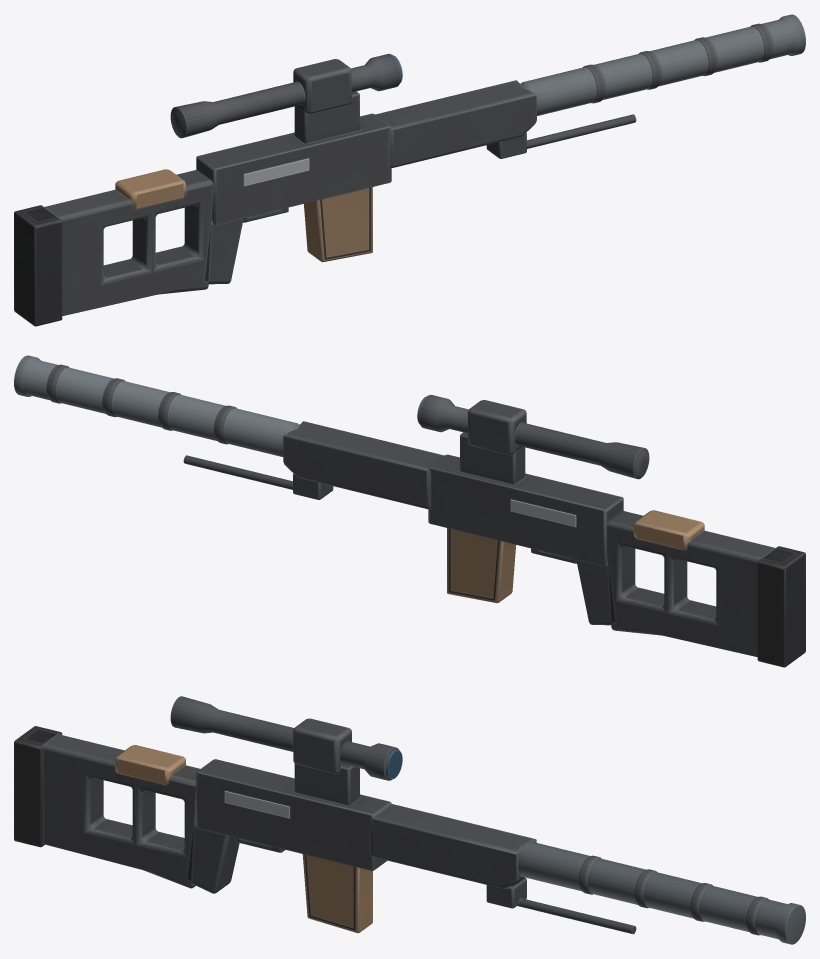
File: AT_PSR.fbx
The picture shows the model from 3 angles, top to bottom: view 1: azimuth 30°, elevation 25°; view 2: azimuth 150°, elevation 25°; view 3: azimuth 330°, elevation 25°; orthographic projection.
Visible parts, largest first — view 1: AT_PSR; view 2: AT_PSR; view 3: AT_PSR.
Part boxes in pixels (x1,y1,x2,y2): AT_PSR: (14,14,805,326); AT_PSR: (14,355,805,667); AT_PSR: (14,696,805,944).
Size of the model in its own units: 0.6207 by 0.1463 by 0.03.
Materials: 1 (1 with a texture image).
